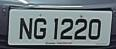0: (88, 16, 103, 42)
1: (50, 17, 61, 42)
2: (59, 16, 75, 42), (74, 16, 89, 41)
G: (34, 16, 47, 42)
N: (19, 16, 34, 43)
